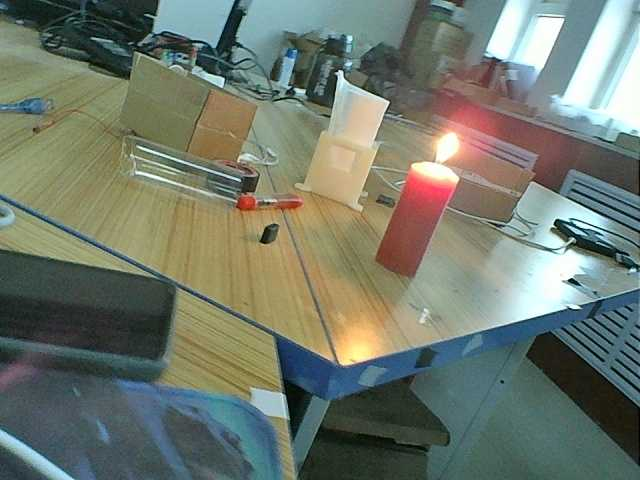candle: (369, 167, 461, 278)
fire: (409, 131, 466, 174)
